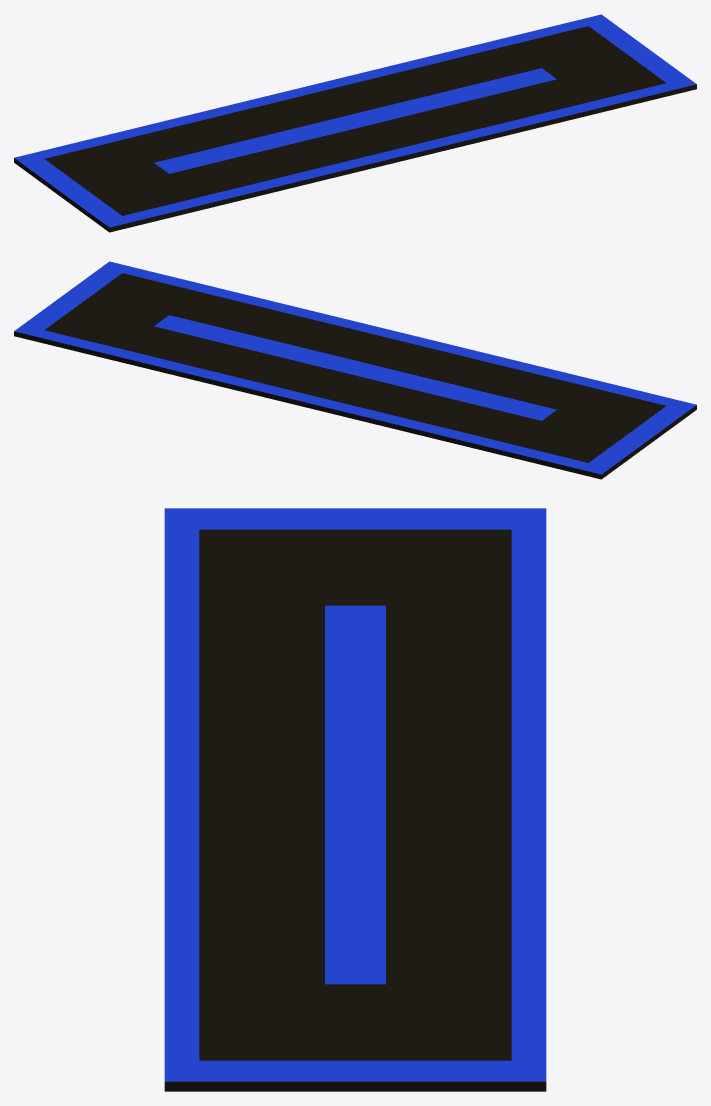
The model's file is Road.fbx.
The picture shows the model from 3 angles, top to bottom: view 1: azimuth 30°, elevation 25°; view 2: azimuth 150°, elevation 25°; view 3: azimuth 270°, elevation 25°; orthographic projection. The views are drawn at different scales.
Parts seen in each view (by area): view 1: road; view 2: road; view 3: road.
Part boxes in pixels (left/top/right/bottom): road: left=14, top=14, right=696, bottom=232; road: left=14, top=261, right=696, bottom=479; road: left=164, top=508, right=546, bottom=1091.
Bounding box in the file's own units: 2948 × 23.51 × 830.
